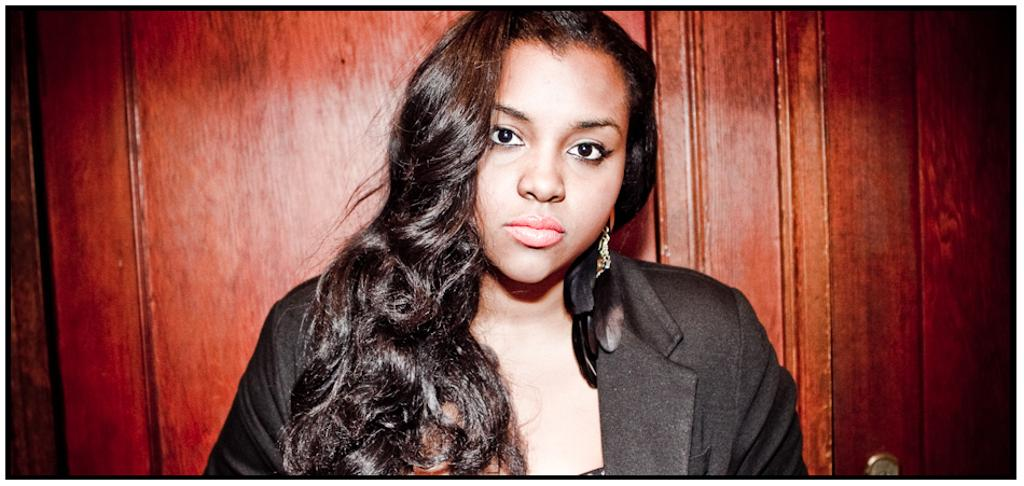face: (470, 44, 634, 292)
